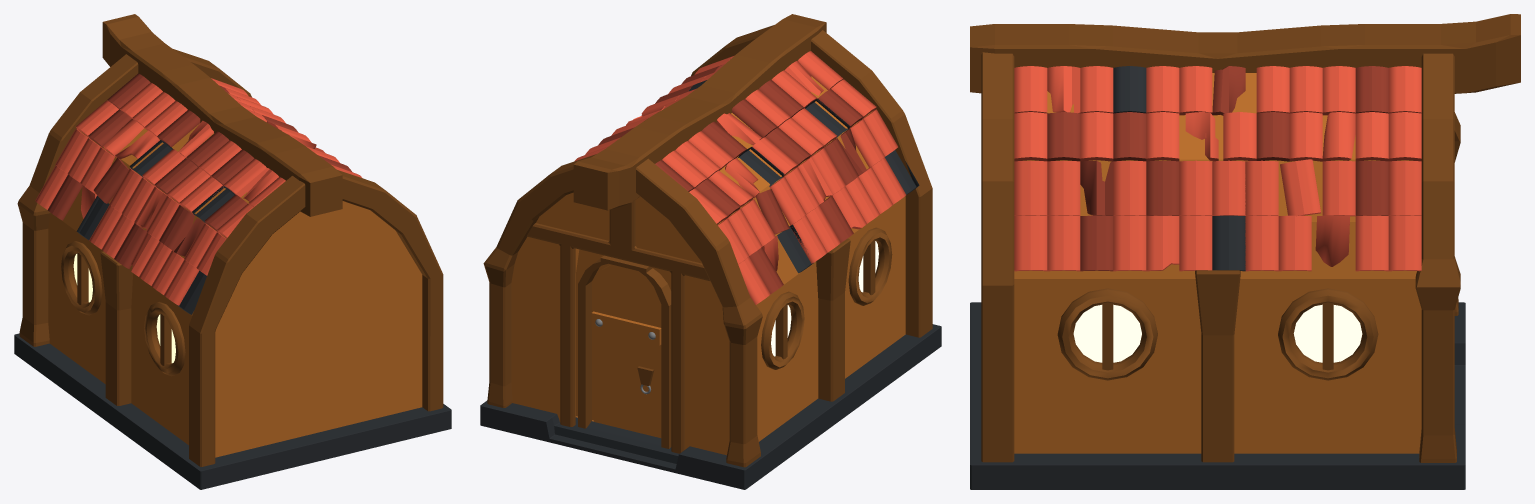
The model's file is house.fbx.
The picture shows the model from 3 angles, left to right: view 1: azimuth 30°, elevation 25°; view 2: azimuth 150°, elevation 25°; view 3: azimuth 270°, elevation 25°; orthographic projection. The views are drawn at different scales.
Visible parts, largest first — view 1: Cube; view 2: Cube; view 3: Cube.
Boxes of the visible parts, x1,y1,x2,y2 form: Cube: (14,14,451,489); Cube: (480,14,941,489); Cube: (970,14,1520,489).
Size of the model in its own units: 700 by 774 by 1000.
